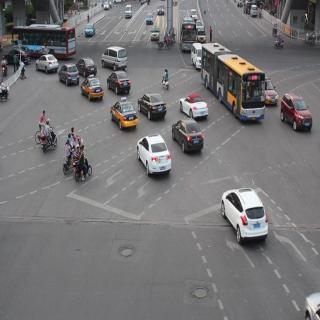BigCar: (202, 44, 266, 124), (12, 22, 75, 57)
Car: (222, 184, 270, 243), (136, 135, 172, 177), (280, 92, 314, 134), (172, 118, 205, 154), (110, 97, 138, 129), (138, 90, 167, 120), (81, 72, 104, 104), (178, 94, 206, 119), (100, 44, 126, 70), (105, 69, 131, 92), (56, 64, 79, 86), (6, 45, 30, 65), (264, 78, 278, 110), (34, 55, 58, 73), (78, 58, 96, 75), (84, 22, 96, 38), (124, 4, 134, 22), (151, 28, 161, 41), (147, 12, 156, 26), (191, 8, 199, 22), (251, 5, 258, 20), (198, 30, 206, 43), (158, 4, 166, 16), (104, 1, 110, 12)
